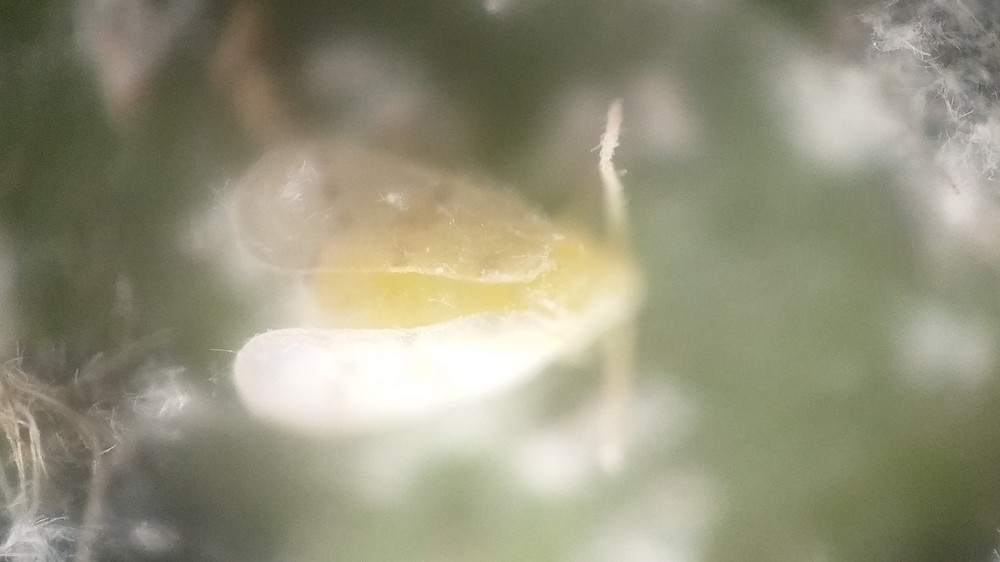Mosca Blanca: (213, 93, 672, 499)
